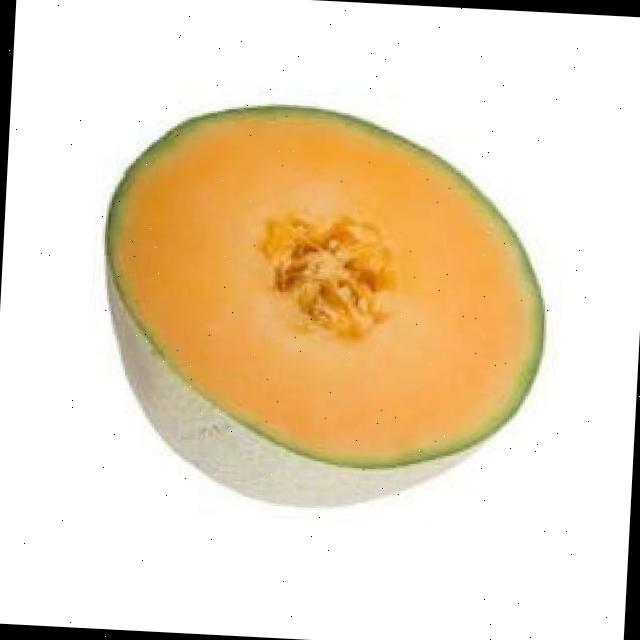Hami Melon: (89, 99, 559, 522)
